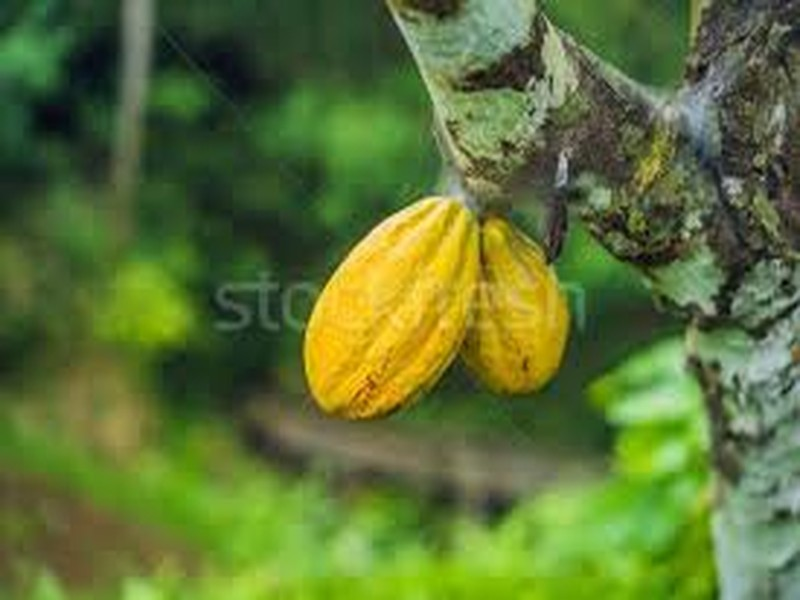Cacaopod: (306, 196, 479, 424)
